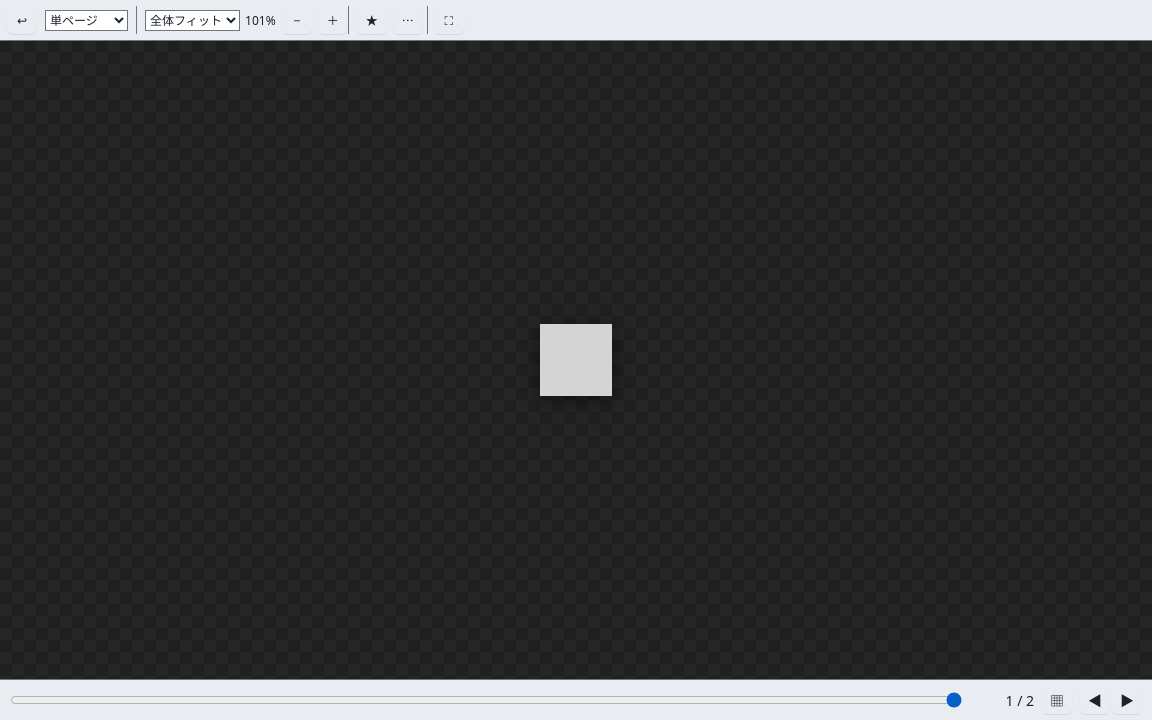
it: Viewer settings › REQ-VIEW-023 keeps reader keys and position unchanged until a preview is selected
The width and height of the screenshot is (1152, 720).
Click the button named "ページ一覧".
click(1057, 700)  # box [1042,686,1072,714]
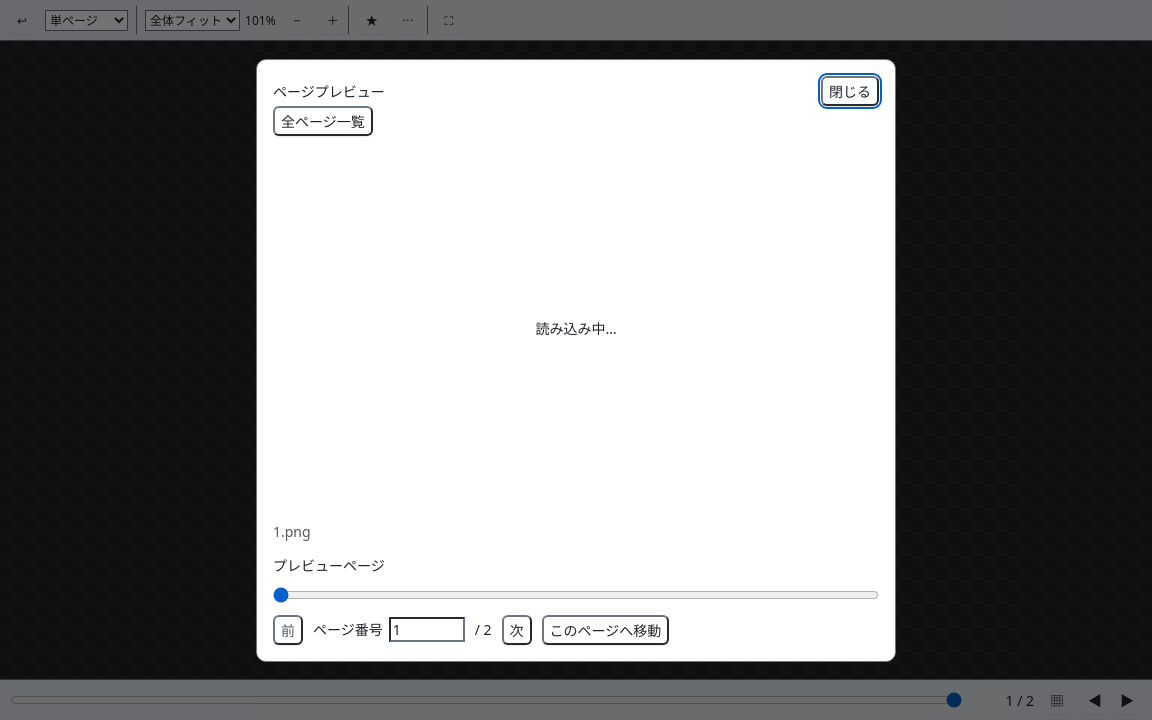
Set the slider labelled "プレビューページ" to "2" at (871, 594), box [273,586,879,602]
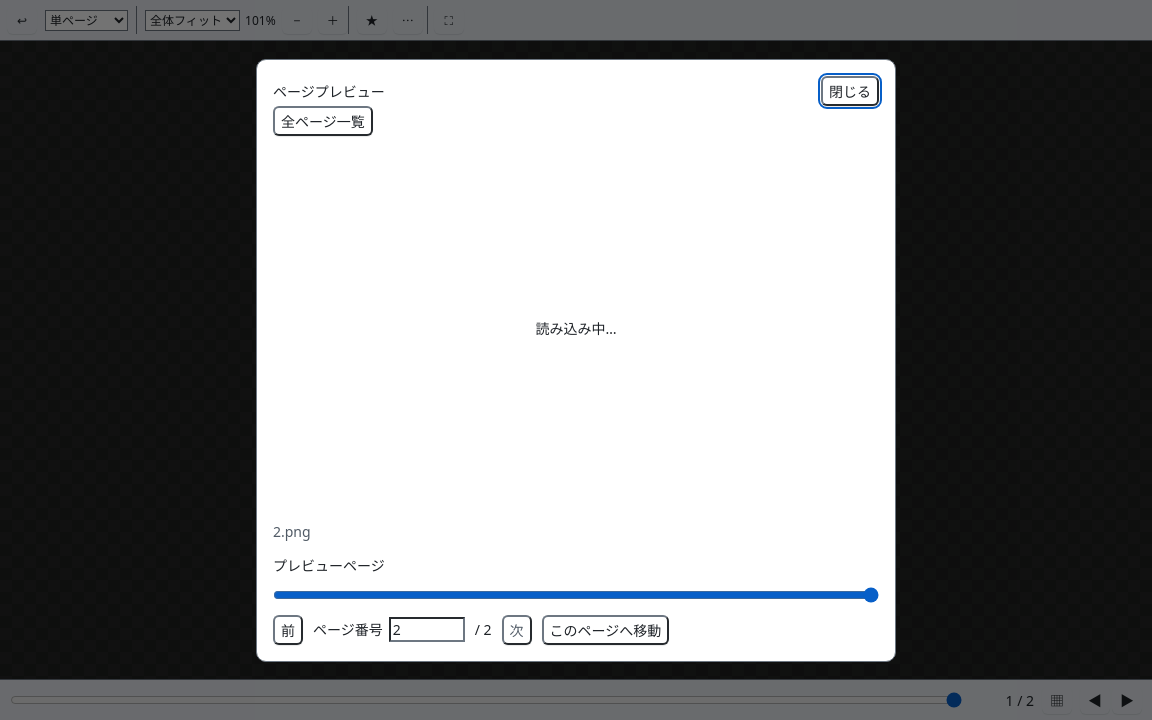
Press PageDown
Press Escape
Click the button "このページへ移動".
click(605, 630)  # box [542,614,669,644]
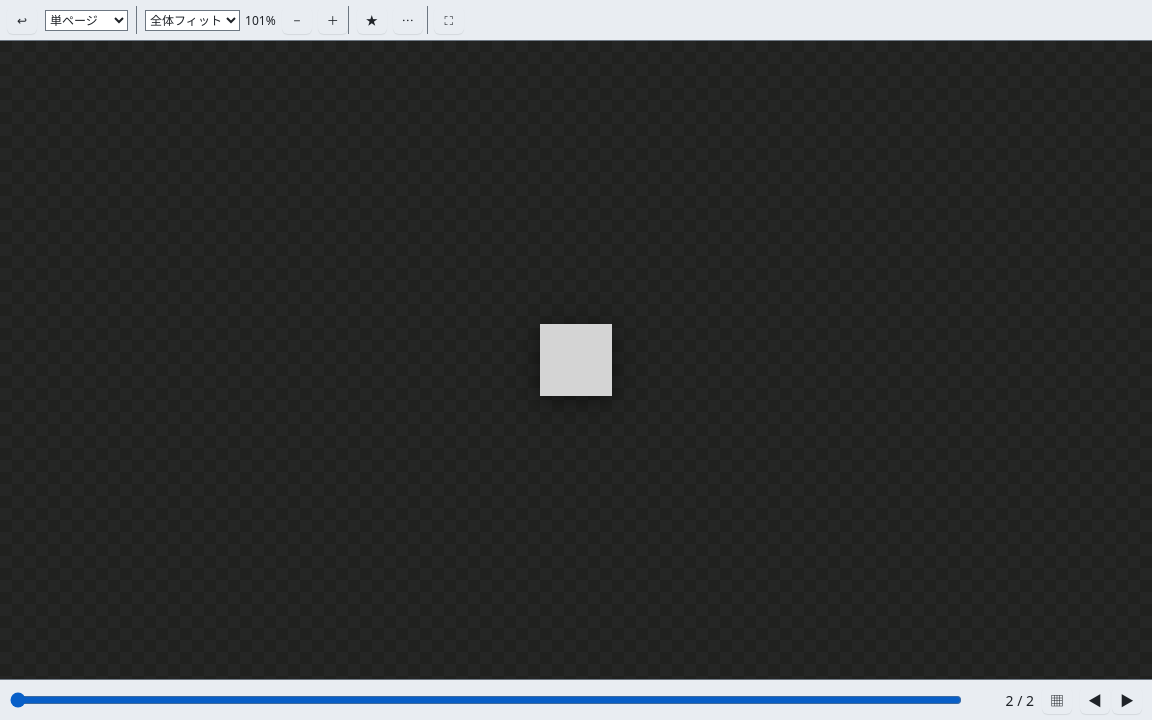
Now the dialog is gone
